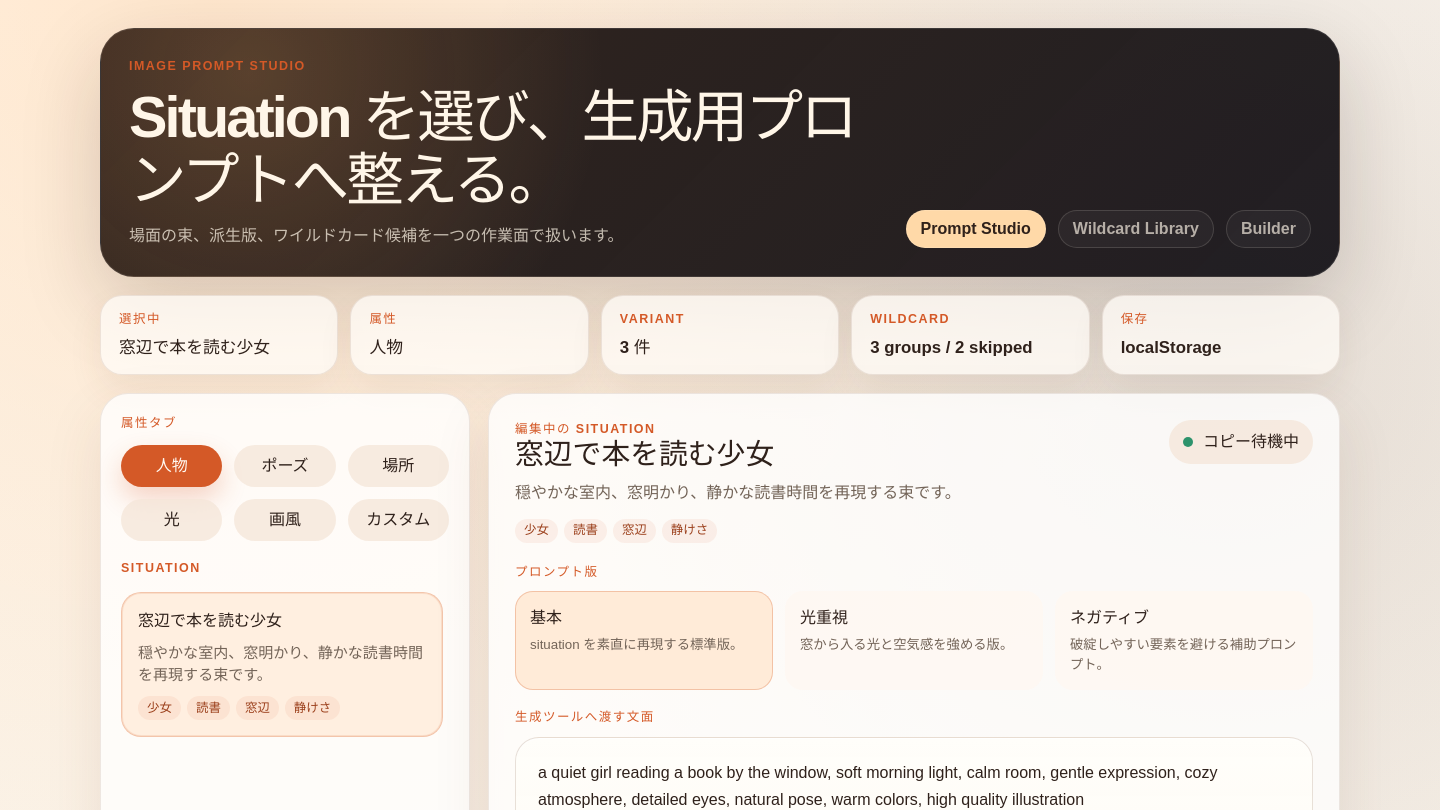
Test: App › switches prompt variants inside the selected situation
Click the button "光重視 窓から入る光と空気感を強める版。".
click(914, 641)  # box [785,591,1043,690]
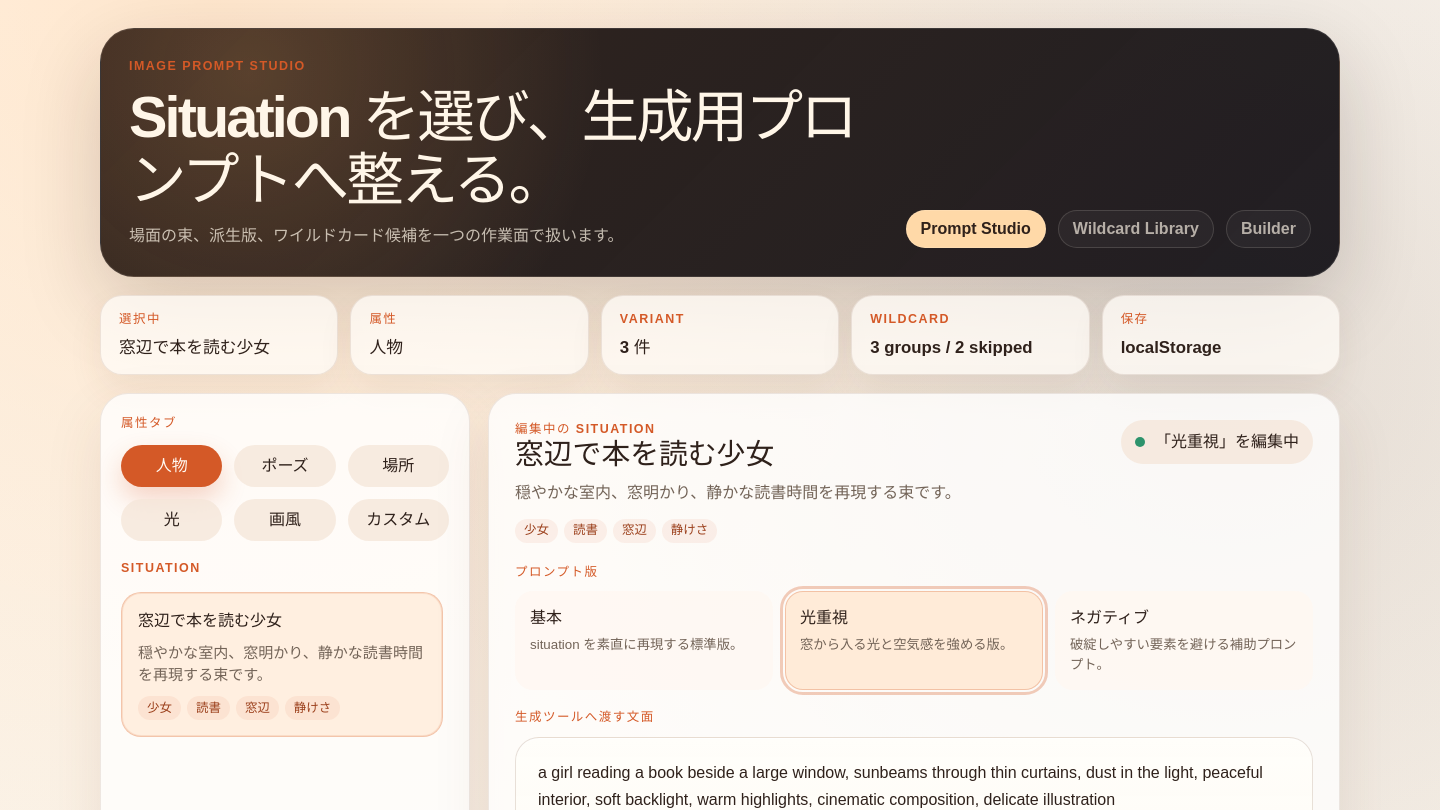
Result: the text "「光重視」を編集中" is shown at [1121,420,1313,464]
